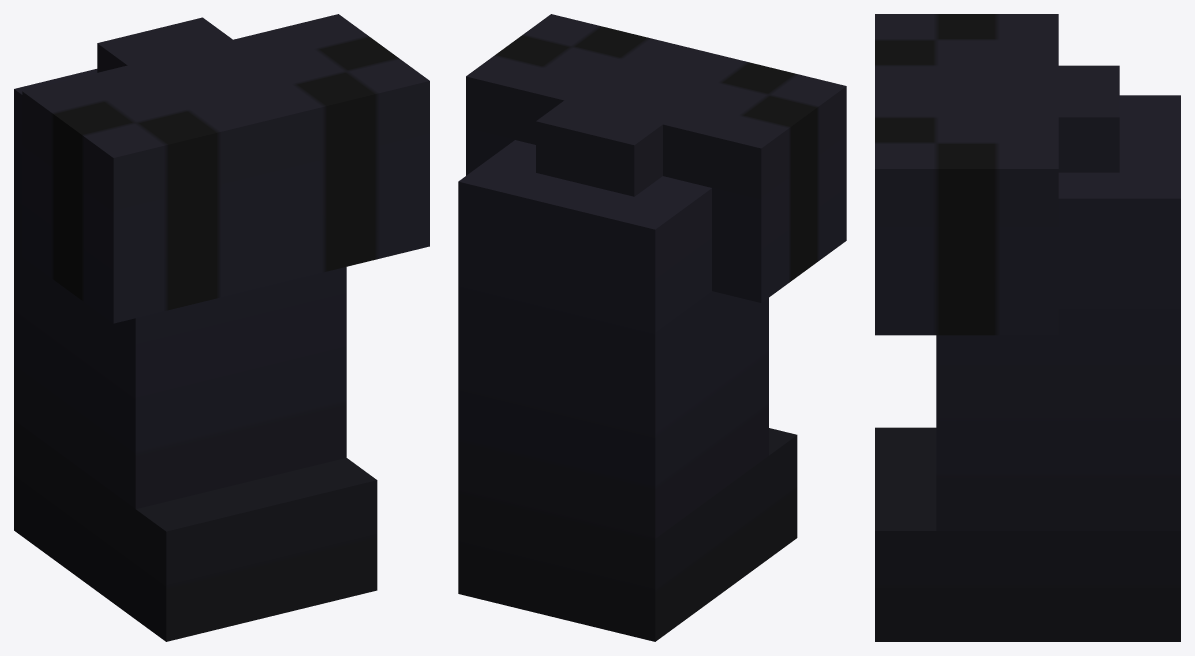
Rendered from Knee079.fbx.
3 renders of one model, left to right at view 1: azimuth 30°, elevation 25°; view 2: azimuth 150°, elevation 25°; view 3: azimuth 270°, elevation 25°, orthographic. The views are drawn at different scales.
Visible parts, largest first — view 1: Knee079; view 2: Knee079; view 3: Knee079.
Part boxes in pixels (x1,y1,x2,y2): Knee079: (14,14,429,641); Knee079: (458,14,846,641); Knee079: (875,14,1180,641).
Size of the model in its own units: 6 by 9 by 5.
